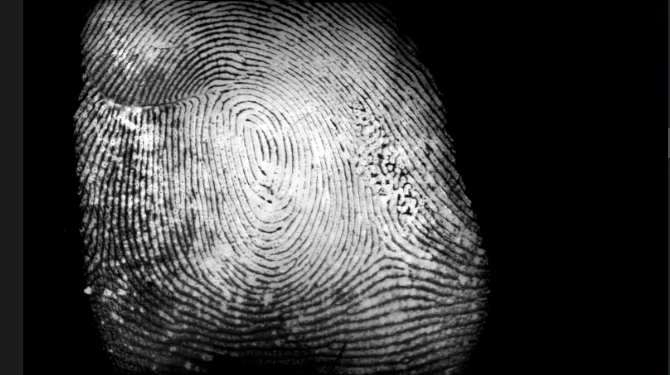deltas: (356, 210, 411, 278), (87, 226, 132, 300)
nucleo: (235, 110, 284, 174)
